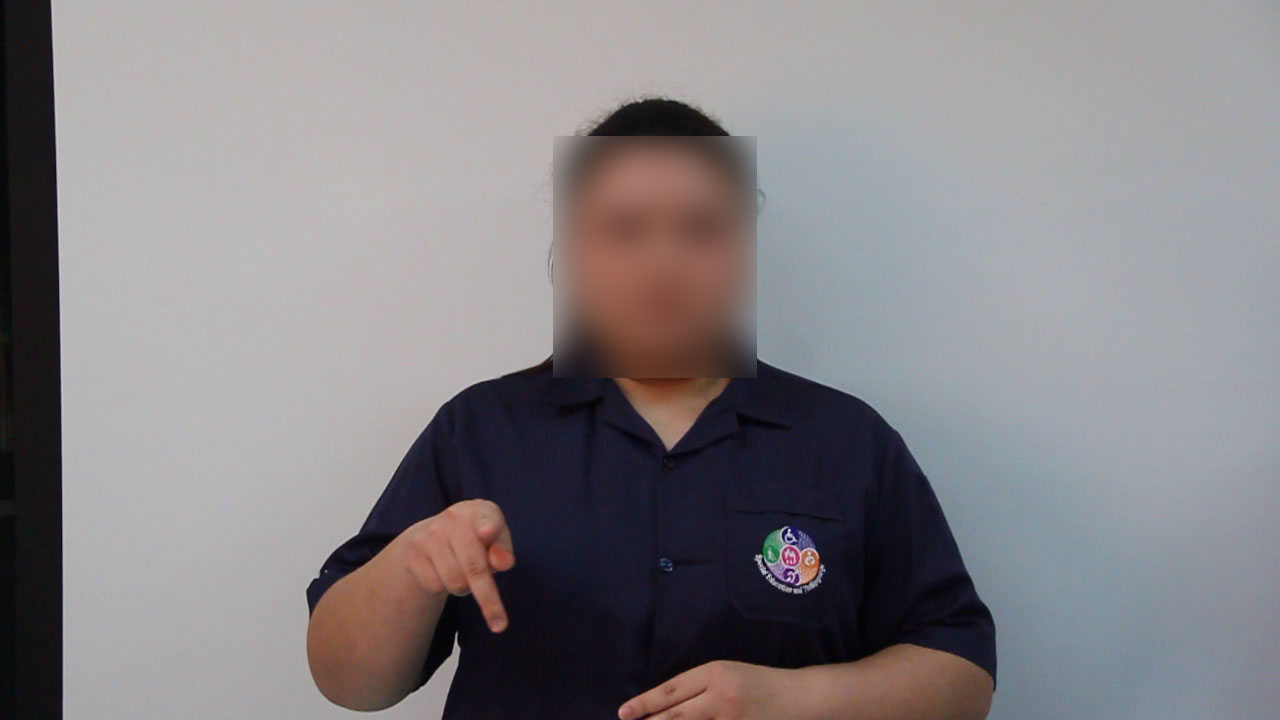por: (397, 474, 533, 647)
